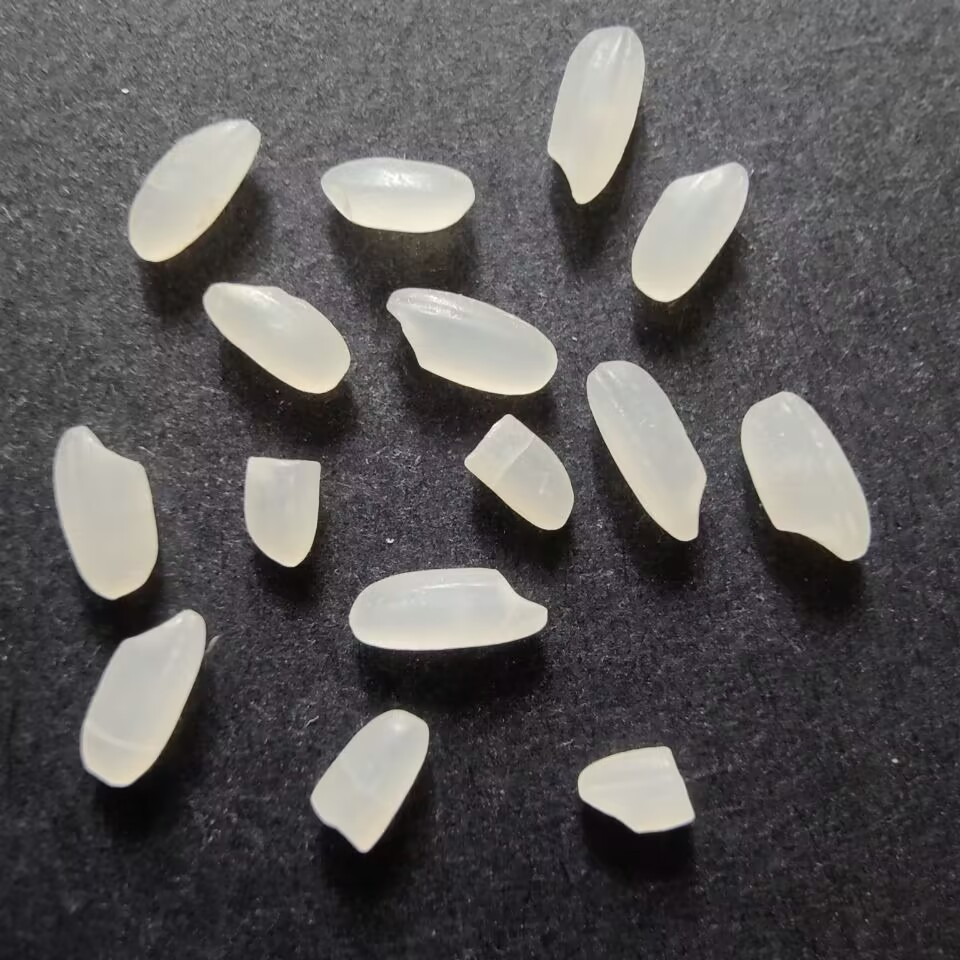broken: (306, 705, 435, 856), (461, 412, 577, 538), (573, 743, 701, 839), (236, 451, 330, 573)
rice: (73, 605, 208, 795), (737, 387, 877, 563), (584, 358, 713, 548), (126, 114, 263, 268), (380, 282, 560, 397), (49, 424, 163, 604), (543, 23, 650, 210), (343, 563, 555, 655), (199, 279, 354, 400), (628, 159, 753, 303), (317, 155, 479, 238)
